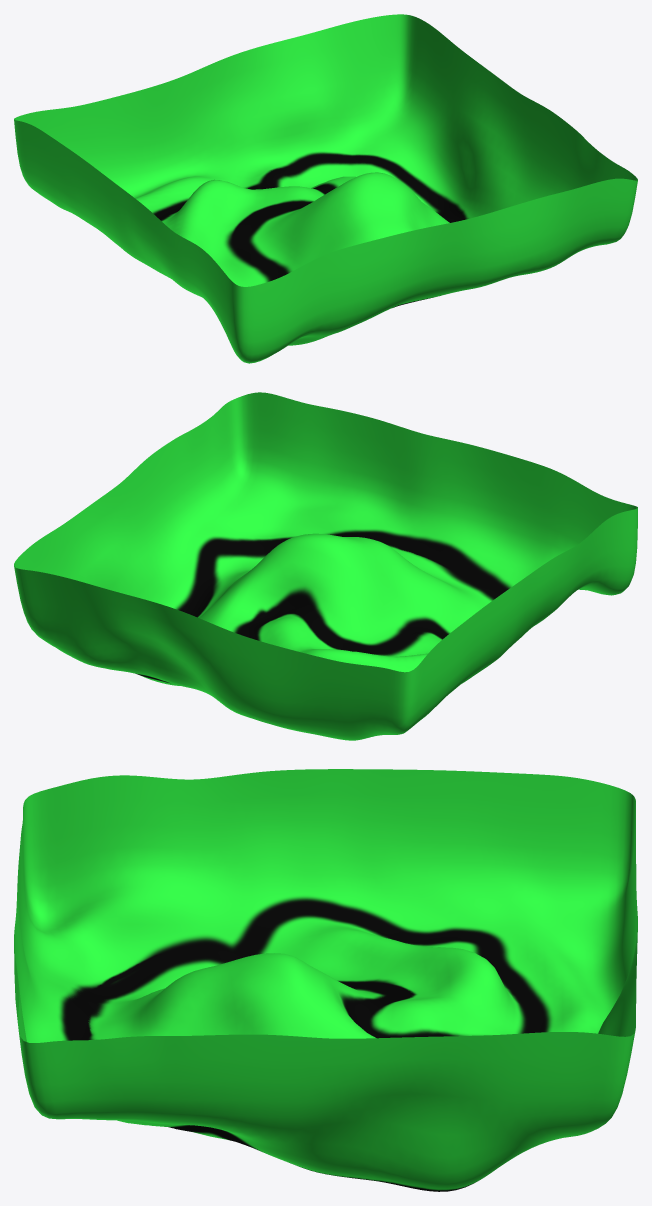
File: circuito1.dae
3 views of the same model, one above another, from view 1: azimuth 30°, elevation 25°; view 2: azimuth 150°, elevation 25°; view 3: azimuth 270°, elevation 25° (orthographic). The views are drawn at different scales.
Visible parts, largest first — view 1: circuito1-col; view 2: circuito1-col; view 3: circuito1-col.
Boxes of the visible parts, <box> form: circuito1-col: <box>14,14,637,363</box>; circuito1-col: <box>14,392,637,740</box>; circuito1-col: <box>14,769,637,1191</box>.
Size of the model in its own units: 204 by 204 by 68.92.
Materials: 1 (1 with a texture image).
